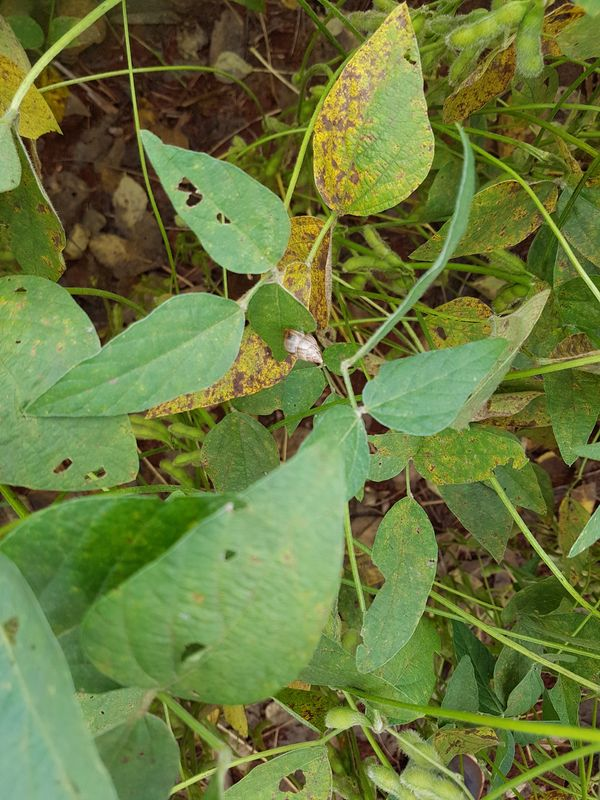Gastropoda: (277, 324, 328, 371)
